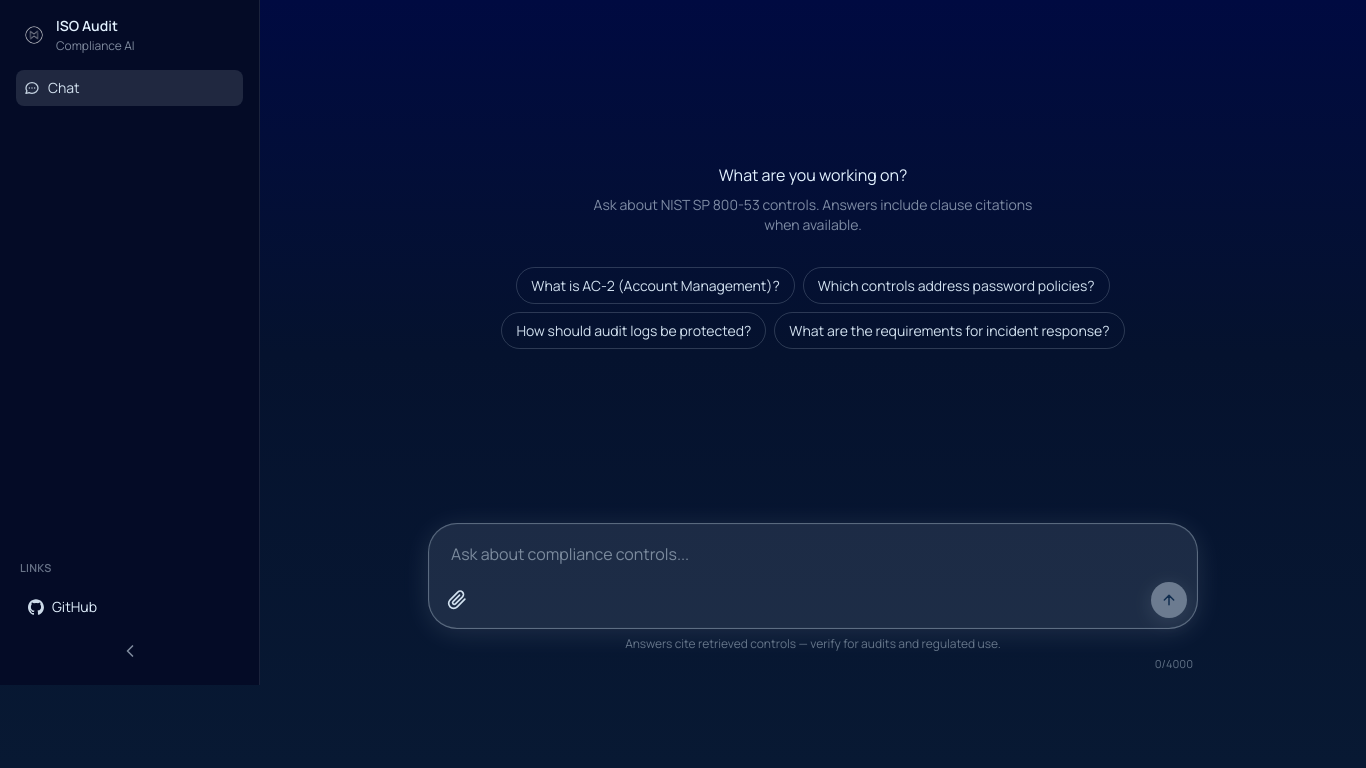
Scenario: Chat › sends a message on form submit and displays the response
This screenshot has width=1366, height=768.
In the text box with placeholder "Ask about compliance controls...": [813, 556] box top-left (439, 534), bottom-right (1187, 578), type "What is AC-01?"
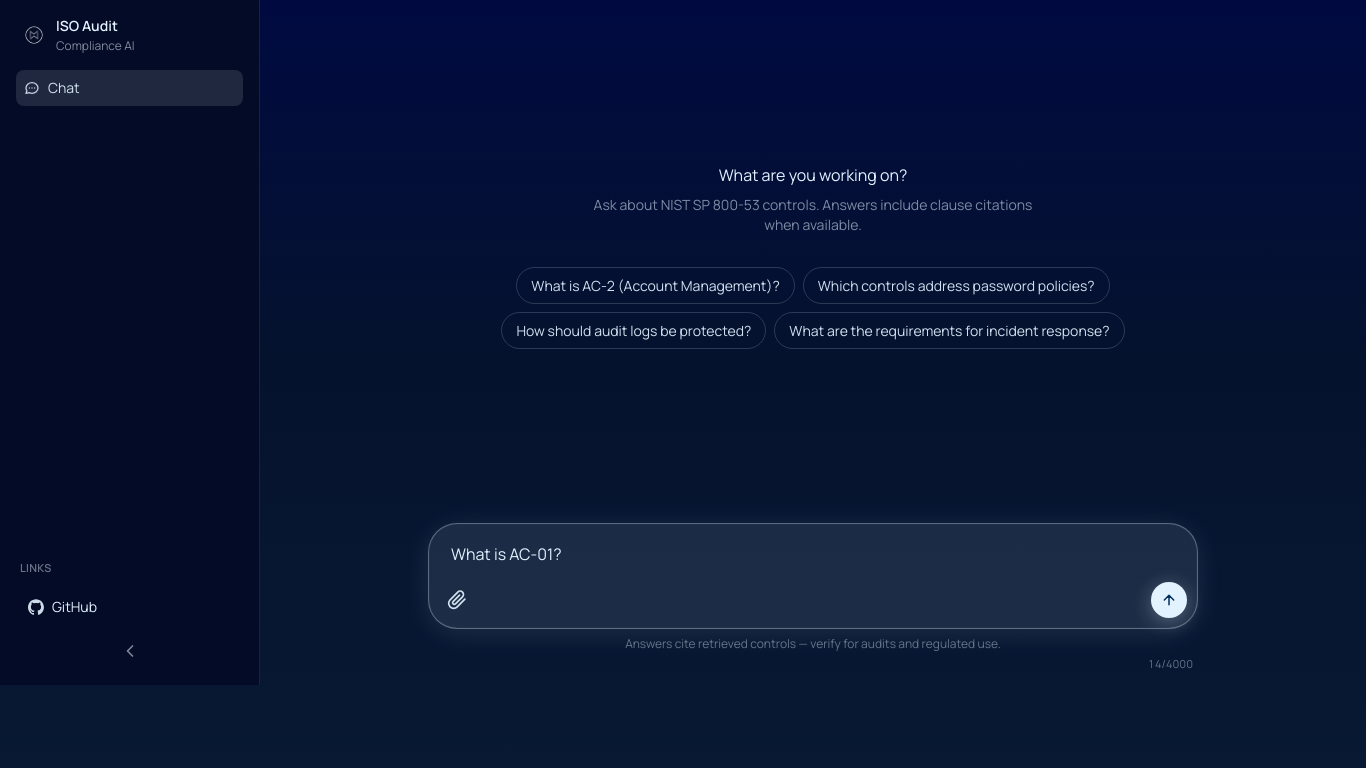
Click the button named "Send": [1169, 600] box top-left (1151, 582), bottom-right (1187, 618)
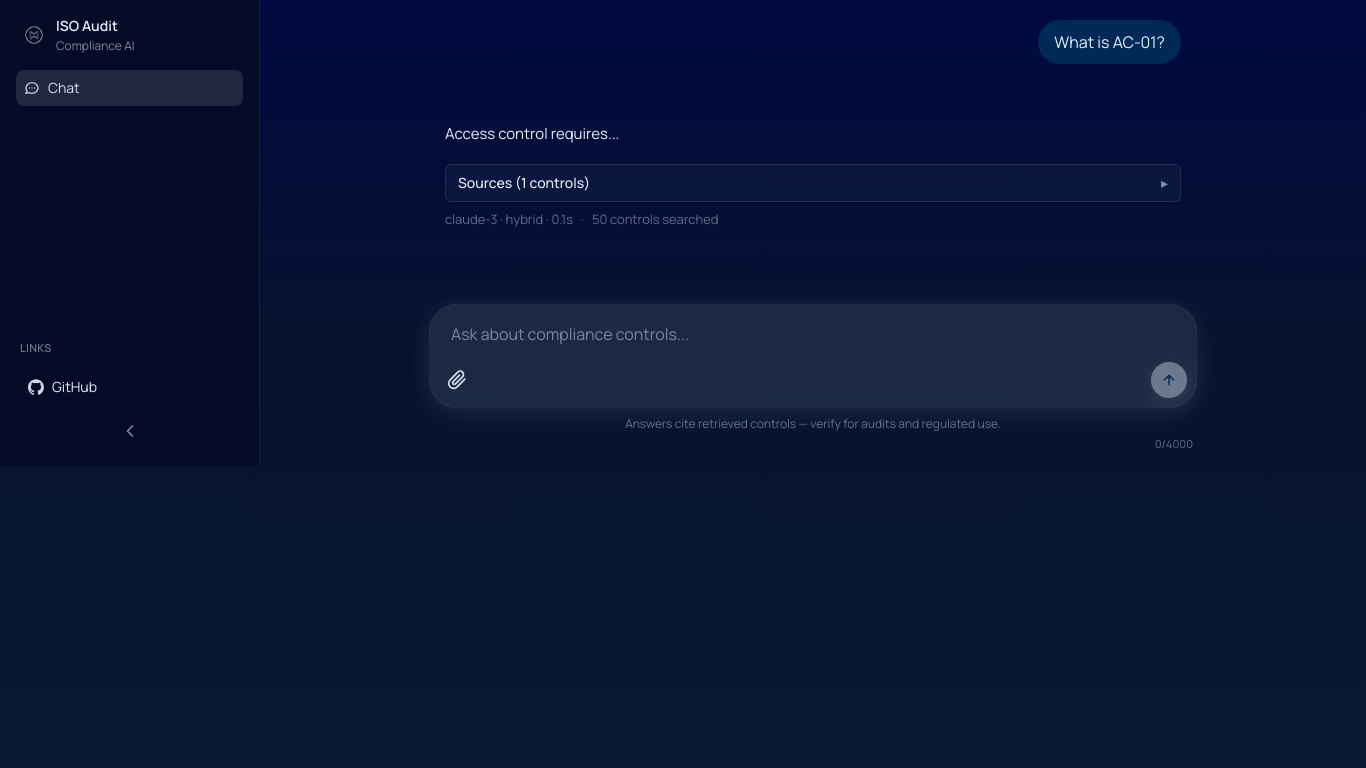
Check: the text "What is AC-01?" is shown, box top-left (1054, 30), bottom-right (1165, 54)
Check: the text "Access control requires..." is shown, box top-left (445, 123), bottom-right (619, 144)
